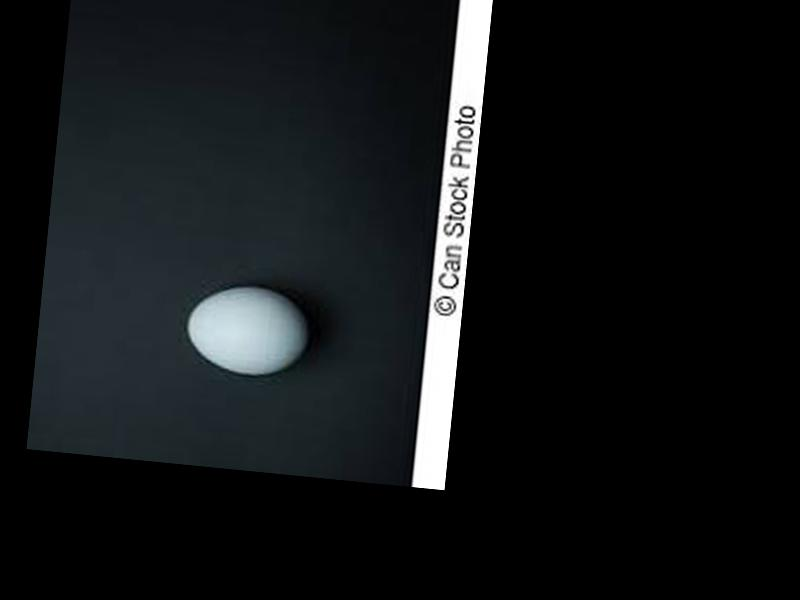Eggs: (182, 281, 311, 382)
